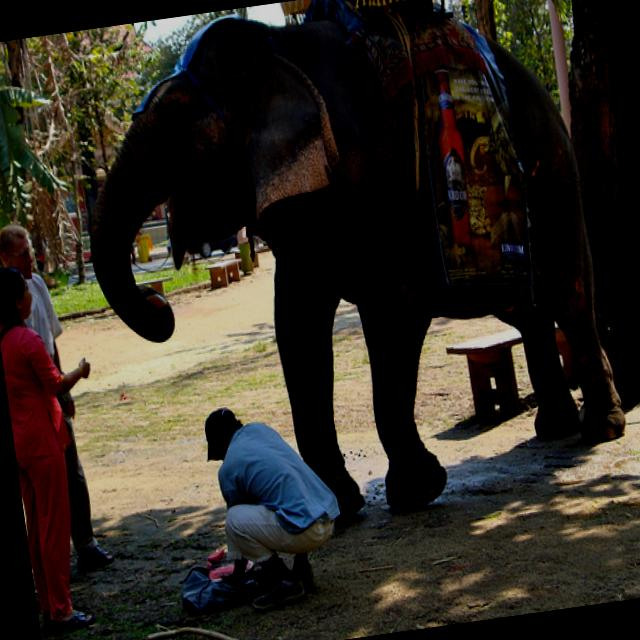Vehicle: (161, 194, 240, 266)
